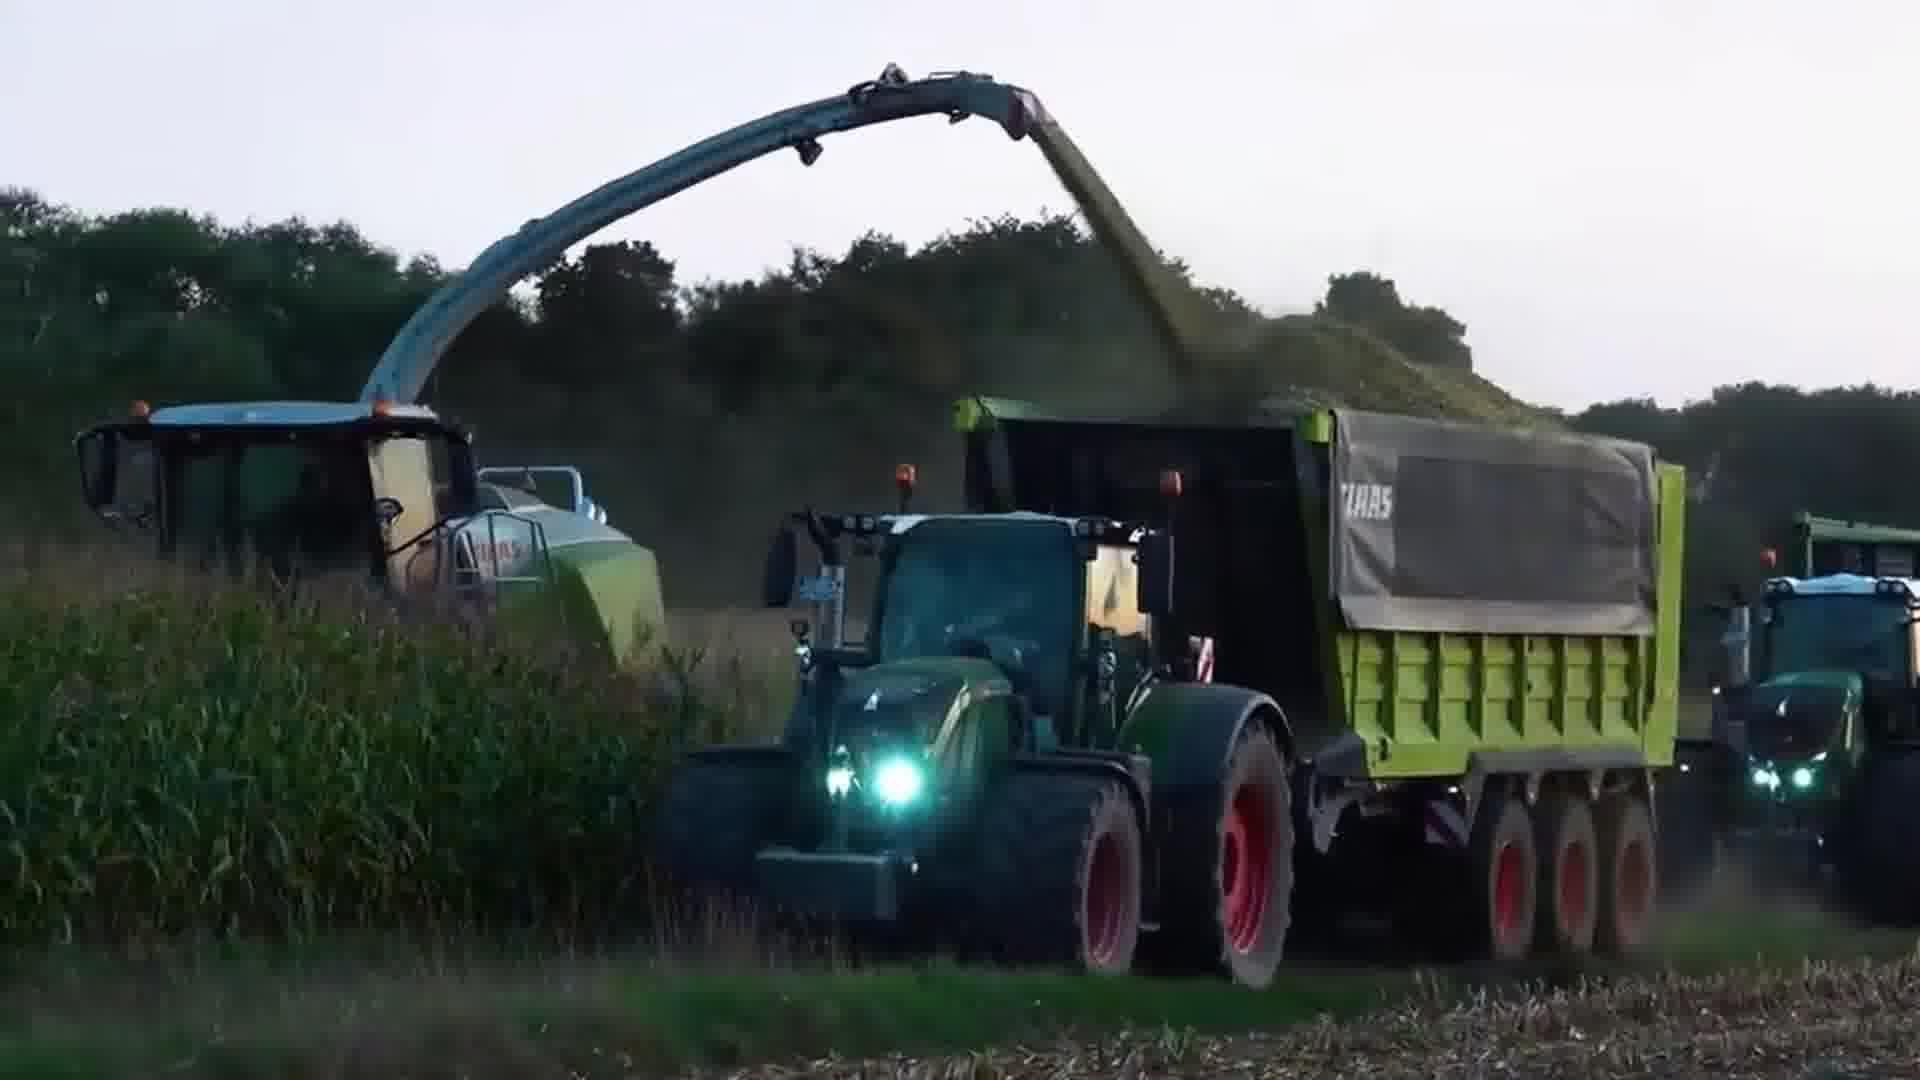combine harvester: (56, 60, 1067, 663)
tractor: (641, 451, 1319, 1009), (1663, 543, 1920, 946)
trailer: (953, 373, 1694, 941)
